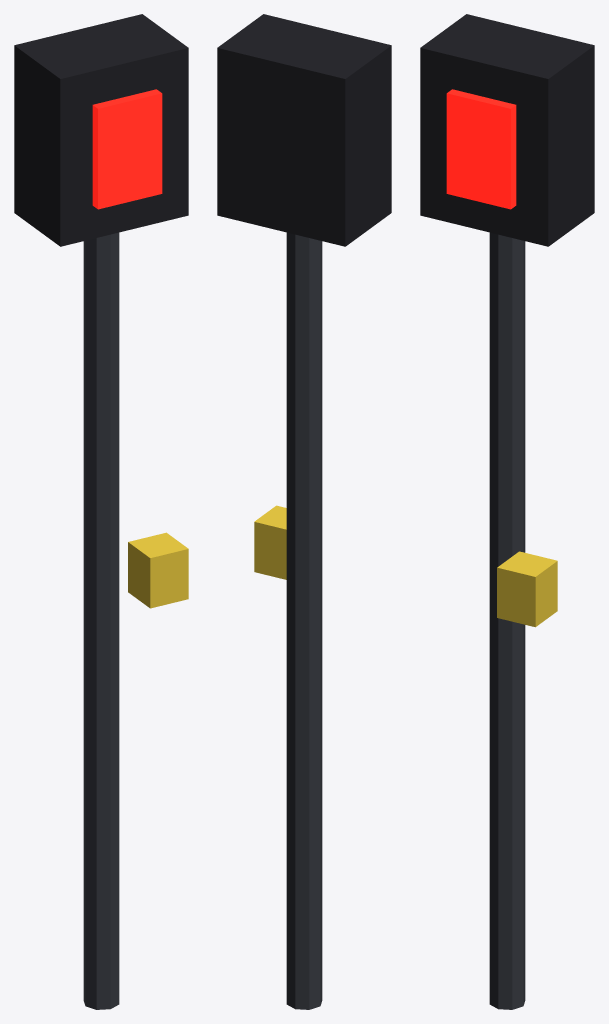
File: pedestrian_signal.glb
The picture shows the model from 3 angles, left to right: view 1: azimuth 30°, elevation 25°; view 2: azimuth 150°, elevation 25°; view 3: azimuth 330°, elevation 25°; orthographic projection.
Visible parts, largest first — view 1: pedestrian_signal; view 2: pedestrian_signal; view 3: pedestrian_signal.
Part boxes in pixels (x1,y1,x2,y2): pedestrian_signal: (14,14,188,1009); pedestrian_signal: (217,14,391,1009); pedestrian_signal: (420,14,594,1009).
Bounding box in the file's own units: 0.4 × 2.85 × 0.285.
